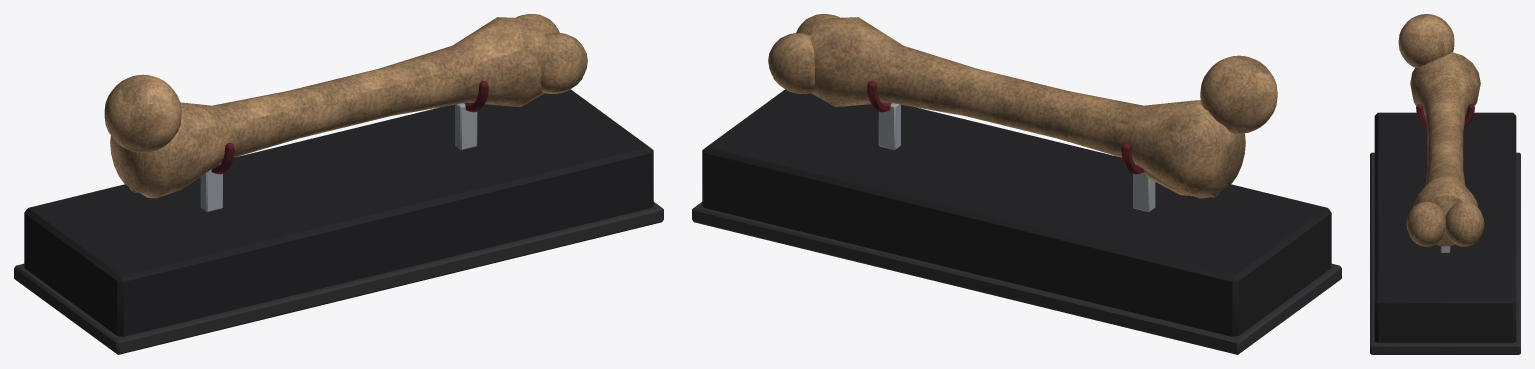
Rendered from dinosaur-femur.glb.
3 views of the same model, side by side, from view 1: azimuth 30°, elevation 25°; view 2: azimuth 150°, elevation 25°; view 3: azimuth 270°, elevation 25° (orthographic). The views are drawn at different scales.
Parts seen in each view (by area): view 1: Dinosaur_Femur; view 2: Dinosaur_Femur; view 3: Dinosaur_Femur.
Part boxes in pixels (x1,y1,x2,y2): Dinosaur_Femur: (14, 14, 663, 354); Dinosaur_Femur: (692, 14, 1341, 354); Dinosaur_Femur: (1370, 14, 1520, 354).
Size of the model in its own units: 1.94 by 0.79 by 0.64.
Materials: 5 (1 with a texture image).
